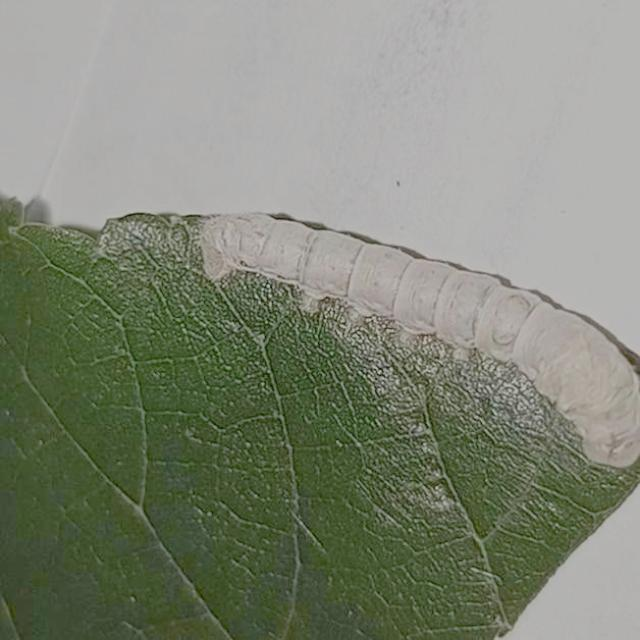Healthy: (189, 196, 640, 484)
